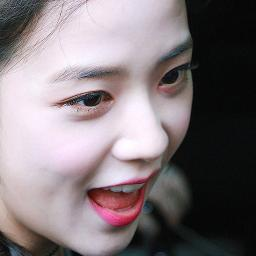winterCool: (8, 4, 188, 256)
